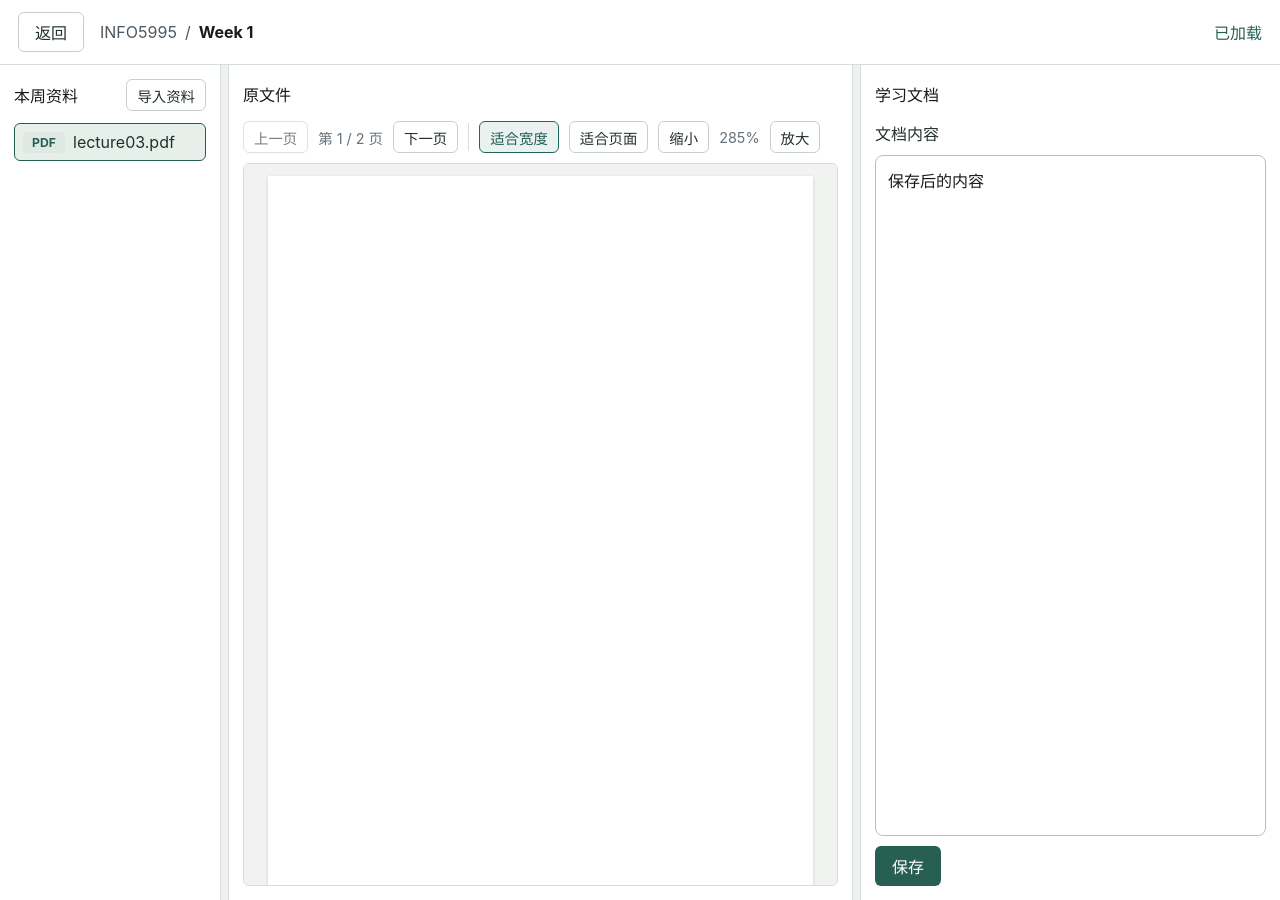
Test: WorkspacePage › Document 保存成功
Expected: the text "INFO5995" is shown, [100,22,177,42]
Expected: the text "Week 1" is shown, [199,22,253,42]
Clear the field named "文档内容". click: coordinates (1070, 496)
box: [875,155,1266,836]
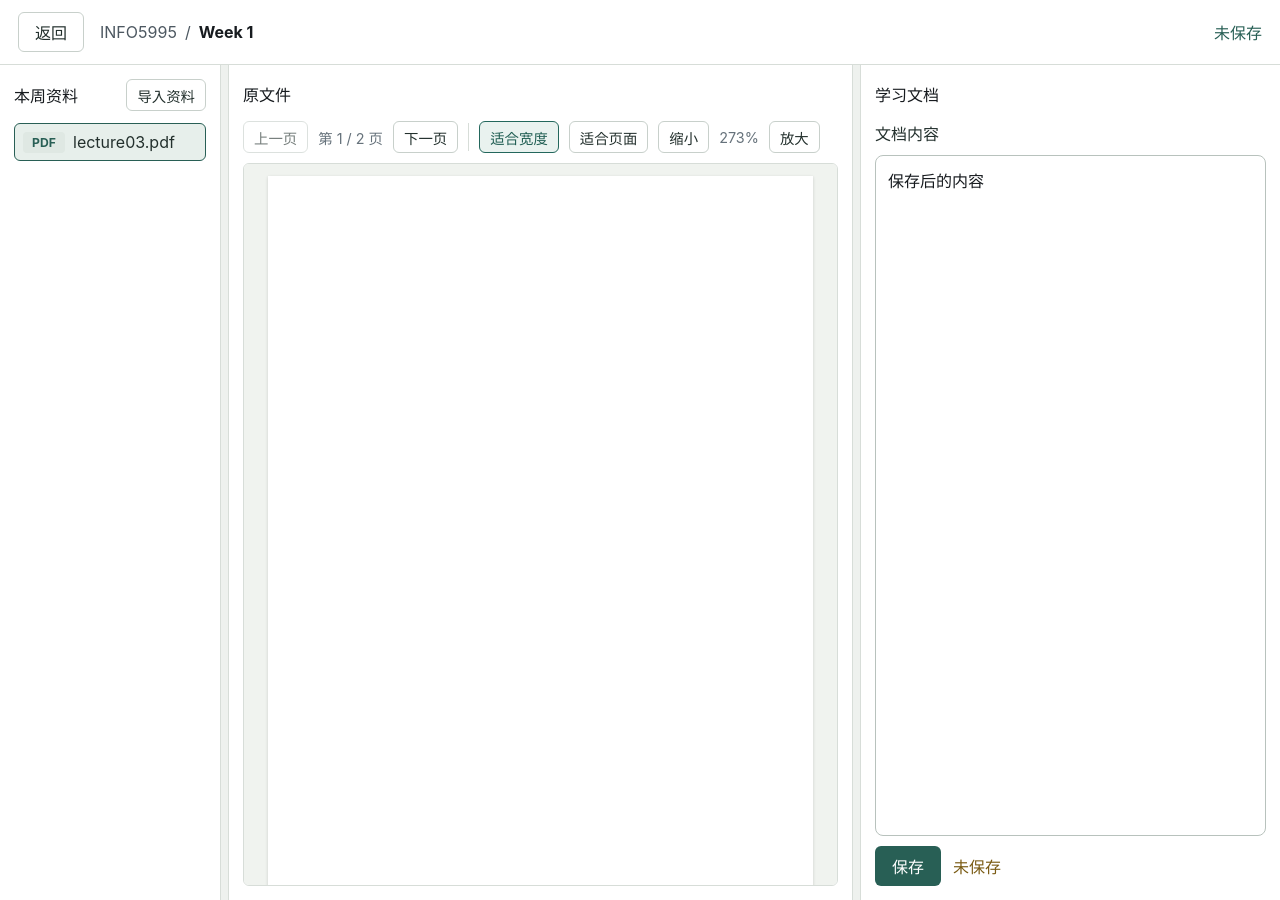
Click the button "保存". click: coordinates (908, 866)
box: [875,846,941,886]
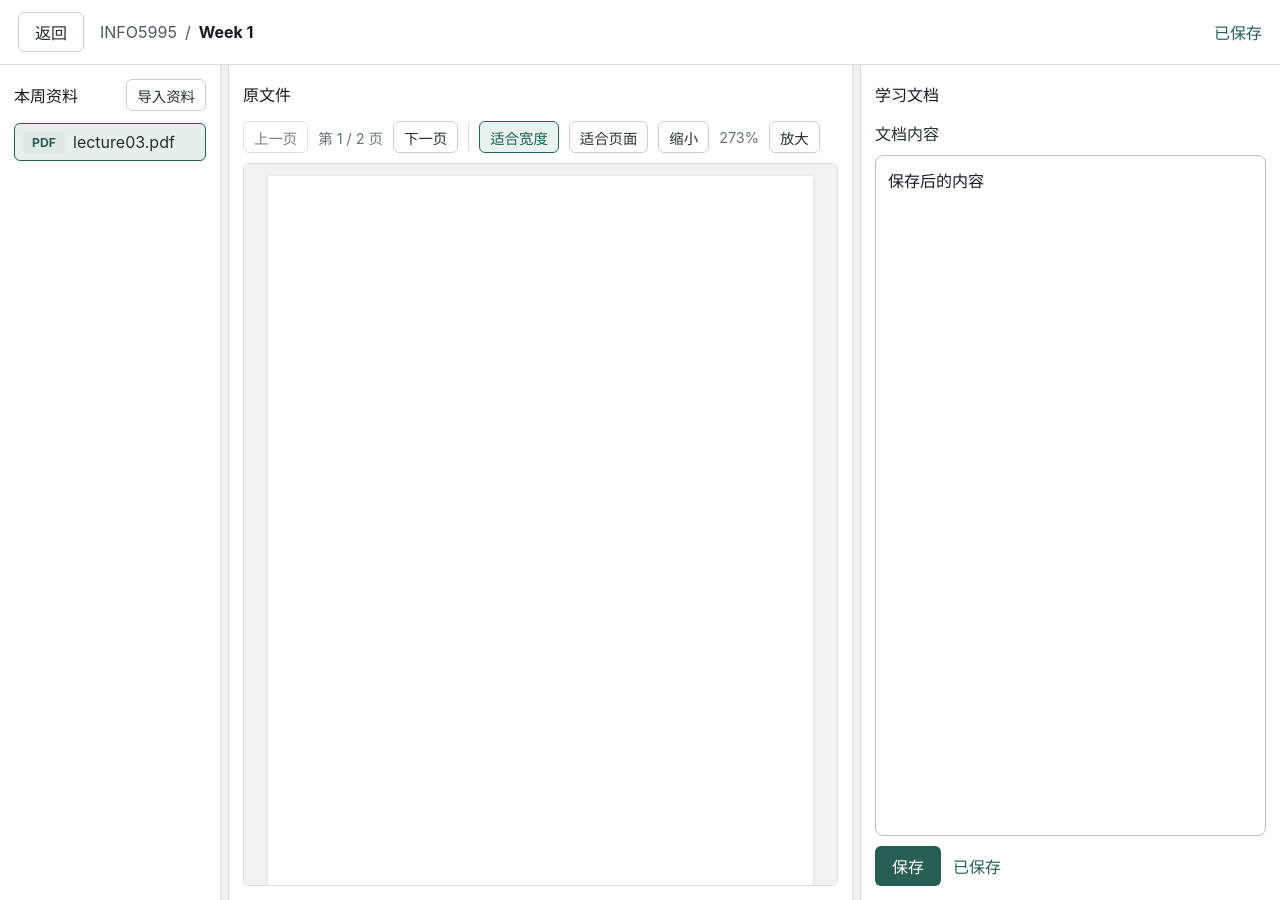
Result: the text "已保存" is shown at [953,854,1001,878]
